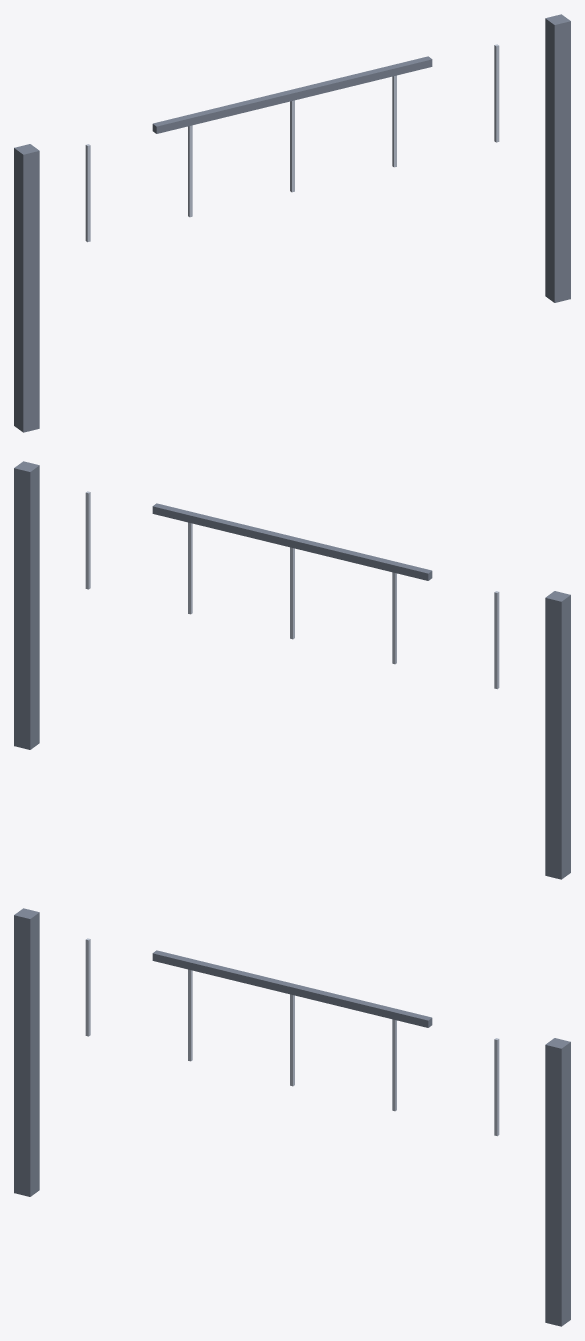
The model's file is prop_cable_support.glb.
The picture shows the model from 3 angles, top to bottom: view 1: azimuth 30°, elevation 25°; view 2: azimuth 150°, elevation 25°; view 3: azimuth 330°, elevation 25°; orthographic projection.
Visible parts, largest first — view 1: prop_cable_support; view 2: prop_cable_support; view 3: prop_cable_support.
Part boxes in pixels (x1=…): prop_cable_support: x1=14, y1=14, x2=570, y2=432; prop_cable_support: x1=14, y1=461, x2=570, y2=879; prop_cable_support: x1=14, y1=908, x2=570, y2=1326.
Size of the model in its own units: 5.36 by 2.6 by 0.16.
